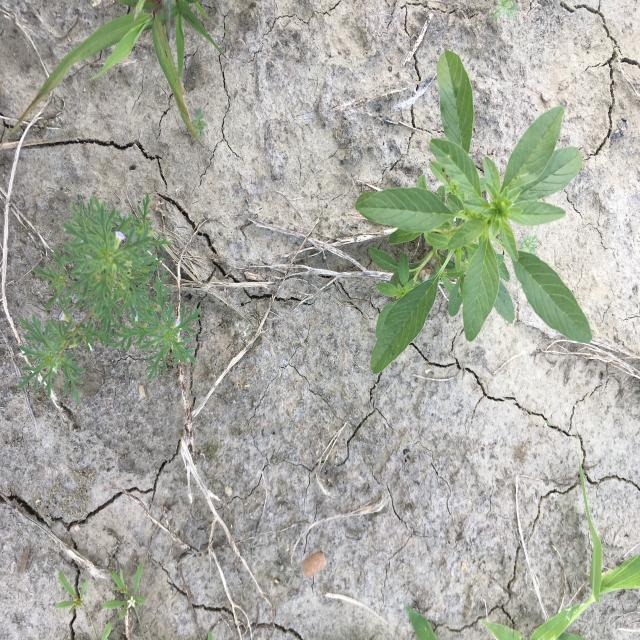Carpetweed: (52, 560, 152, 640)
Ragweed: (16, 190, 202, 407)
Waterhemp: (353, 49, 594, 377)
